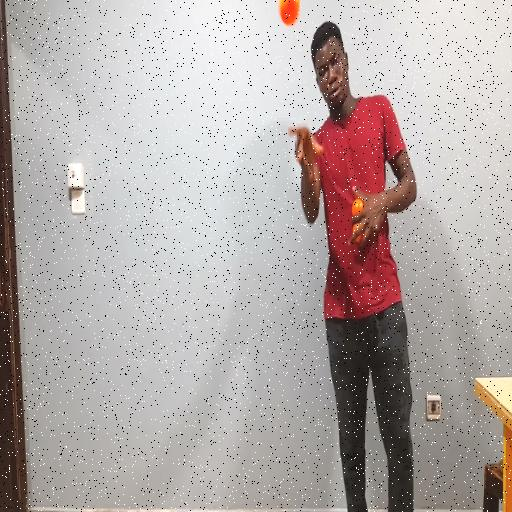plastic-ball: (276, 0, 304, 32)
